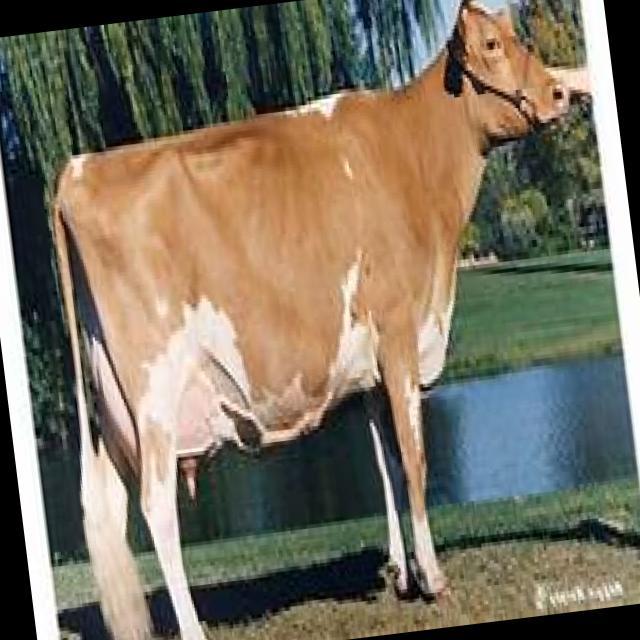animal: (31, 0, 630, 640)
